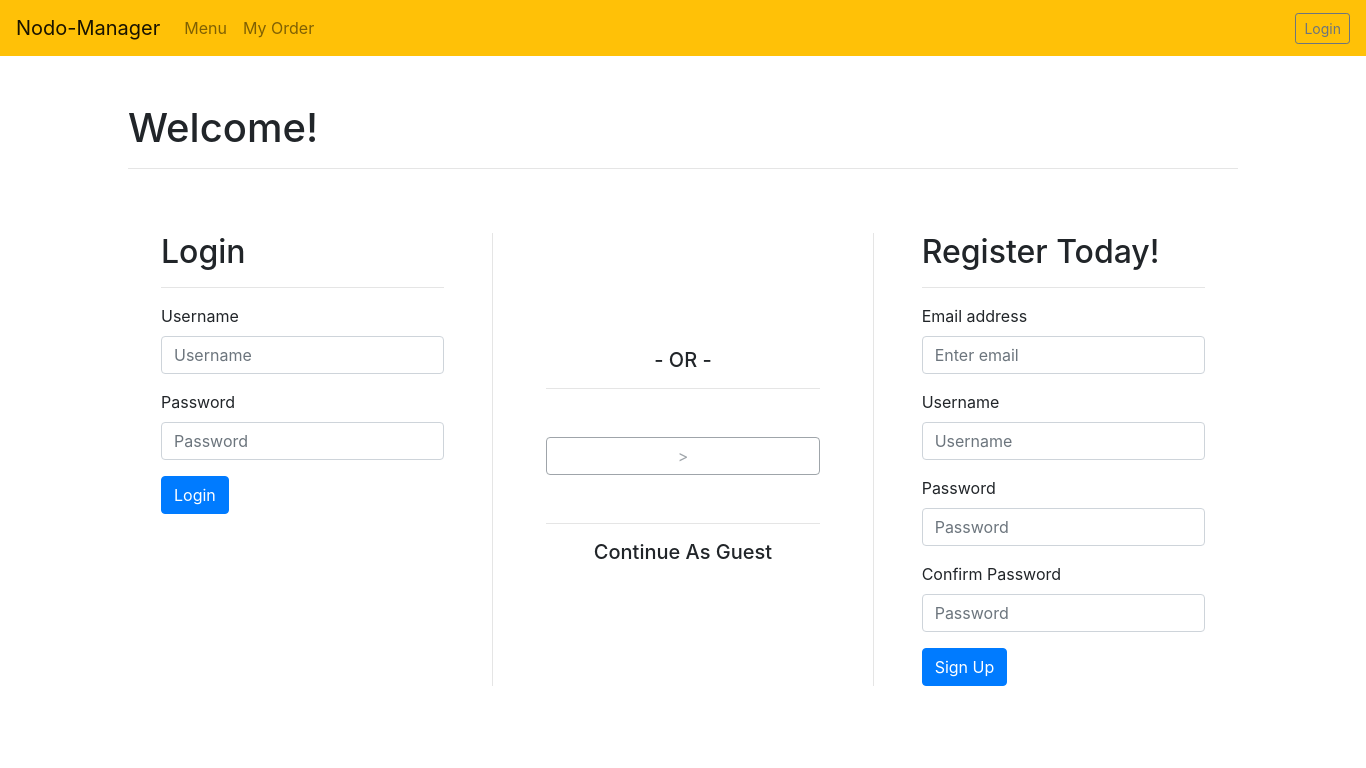
Register Form Actions › Email Input › has a maximum input of 50 characters
Type "@2345678901234567890123456789012345678910123456789012345" into the field with id "register-email" at (1064, 355), box [922,336,1205,374]
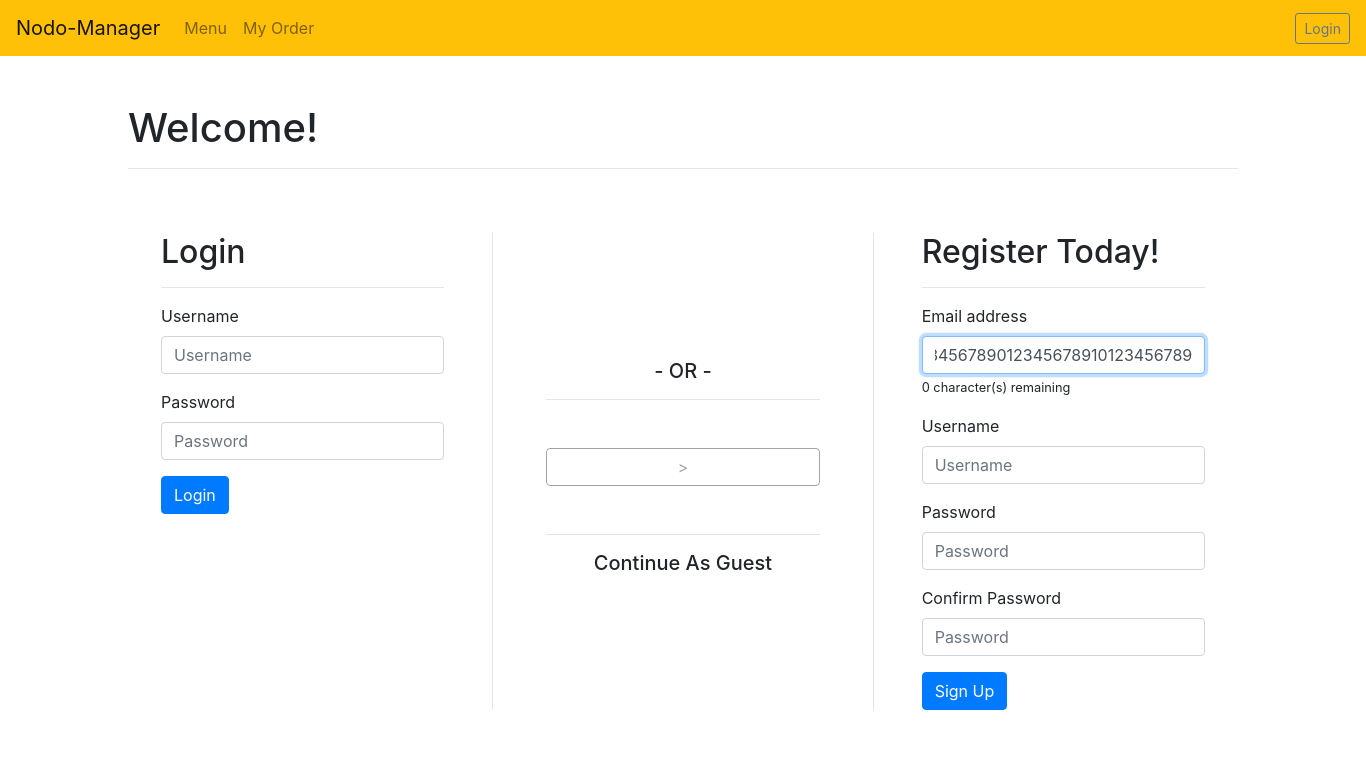
Expected: the field with id "register-email" holds "@2345678901234567890123456789012345678910123456789", [922,336,1205,374]
Expected: the text "0 character(s) remaining" is shown, [922,380,1070,395]
